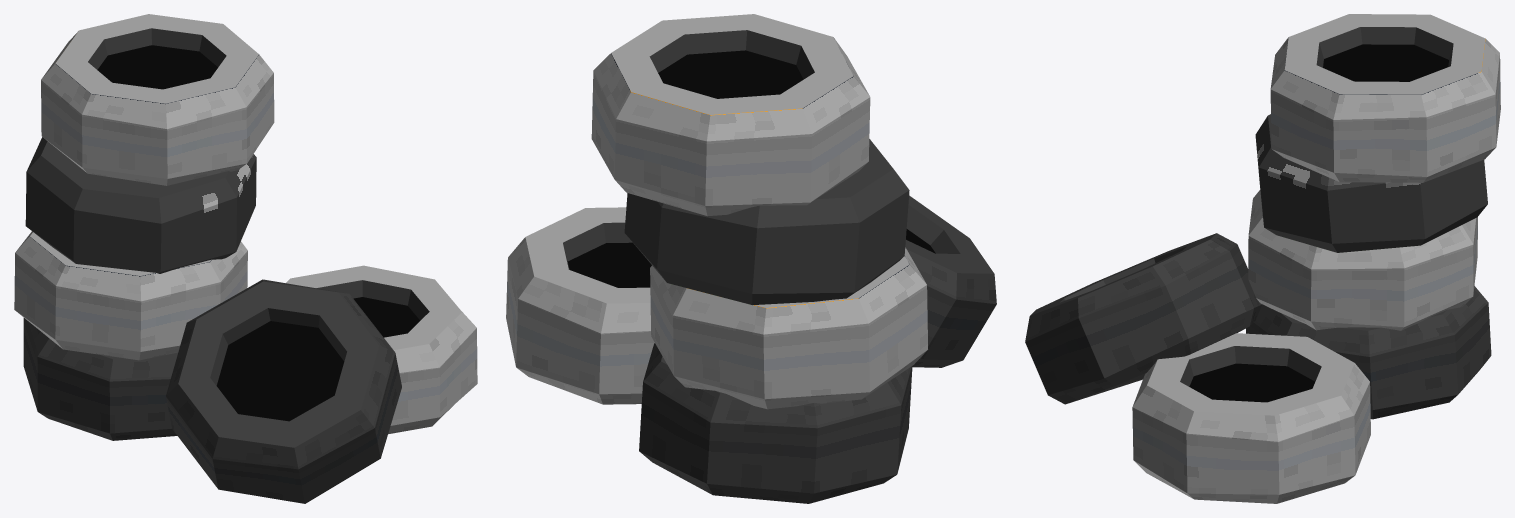
The model's file is tyre_stack_b.glb.
3 views of the same model, side by side, from view 1: azimuth 30°, elevation 25°; view 2: azimuth 150°, elevation 25°; view 3: azimuth 270°, elevation 25° (orthographic). The views are drawn at different scales.
Visible parts, largest first — view 1: SM_Prop_Tyre_Stack_04; view 2: SM_Prop_Tyre_Stack_04; view 3: SM_Prop_Tyre_Stack_04.
Part boxes in pixels (<box>): SM_Prop_Tyre_Stack_04: <box>14,14,477,503</box>; SM_Prop_Tyre_Stack_04: <box>506,14,996,503</box>; SM_Prop_Tyre_Stack_04: <box>1025,14,1500,503</box>.
Size of the model in its own units: 1.17 by 1 by 1.24.
Materials: 1 (1 with a texture image).
